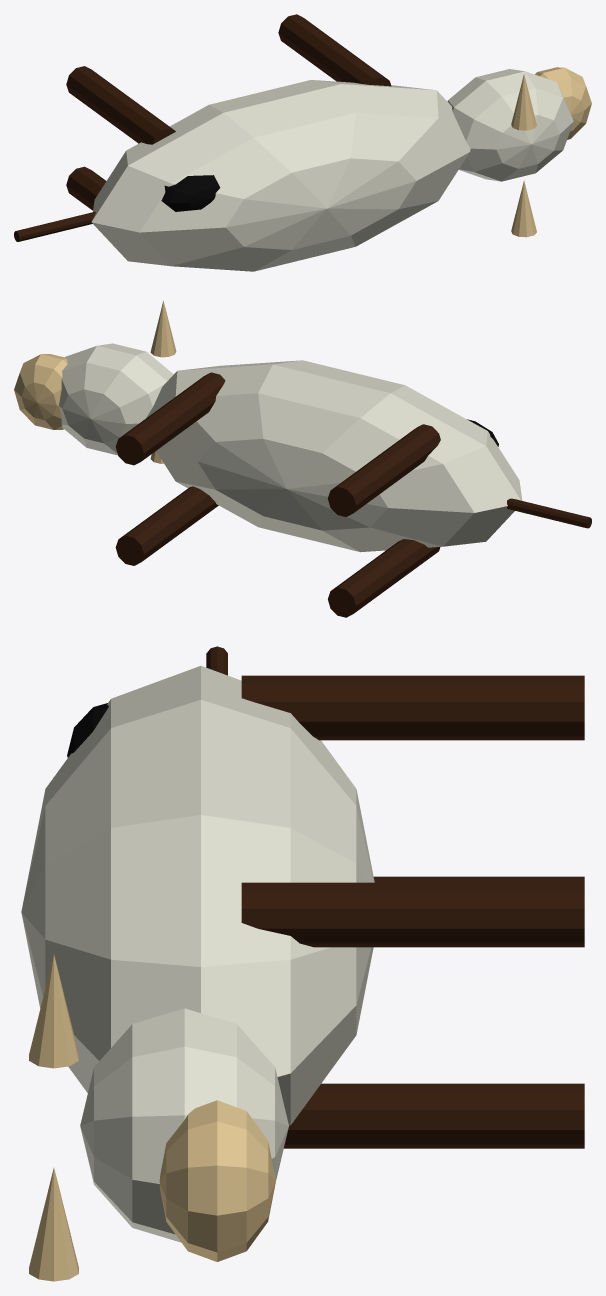
File: cow.obj
3 renders of one model, top to bottom at view 1: azimuth 30°, elevation 25°; view 2: azimuth 150°, elevation 25°; view 3: azimuth 270°, elevation 25°, orthographic. The views are drawn at different scales.
Parts seen in each view (by area): view 1: XYT_generated; view 2: XYT_generated; view 3: XYT_generated.
Part boxes in pixels (x1=…): XYT_generated: x1=14, y1=14, x2=591, y2=271; XYT_generated: x1=14, y1=300, x2=591, y2=617; XYT_generated: x1=21, y1=646, x2=584, y2=1281.
Bounding box in the file's own units: 4.05 × 1.07 × 1.73.
